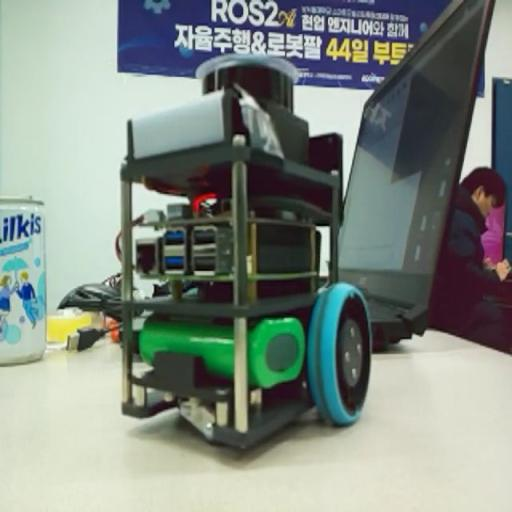pinky_63: (112, 49, 376, 448)
